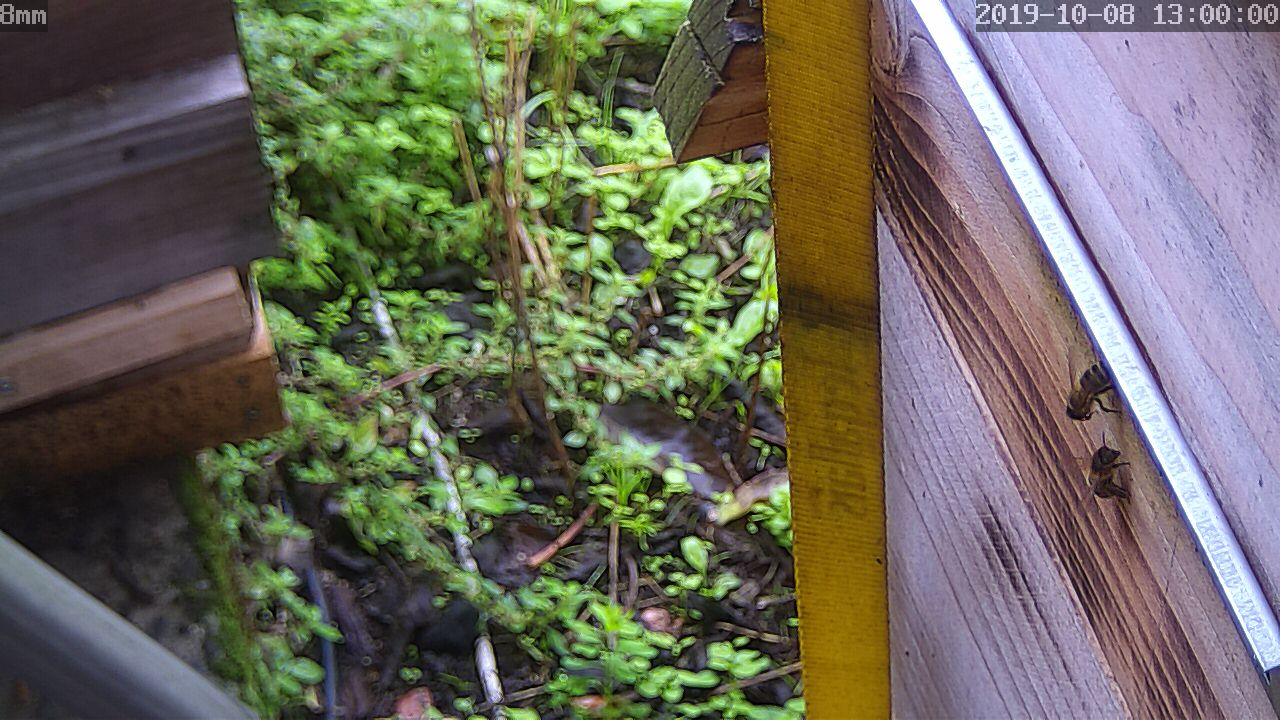bee: (1054, 345, 1118, 425), (1068, 438, 1134, 515)
hornet: (1068, 438, 1134, 515)
